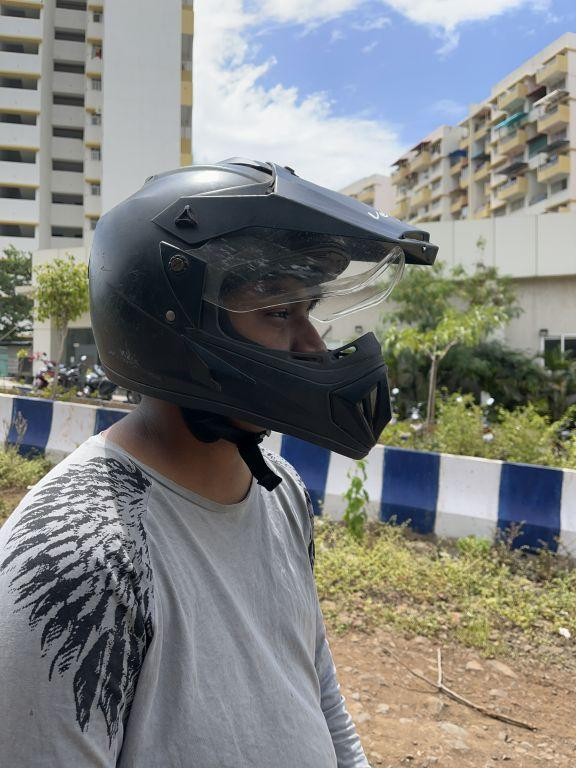helmet: (77, 147, 456, 471)
